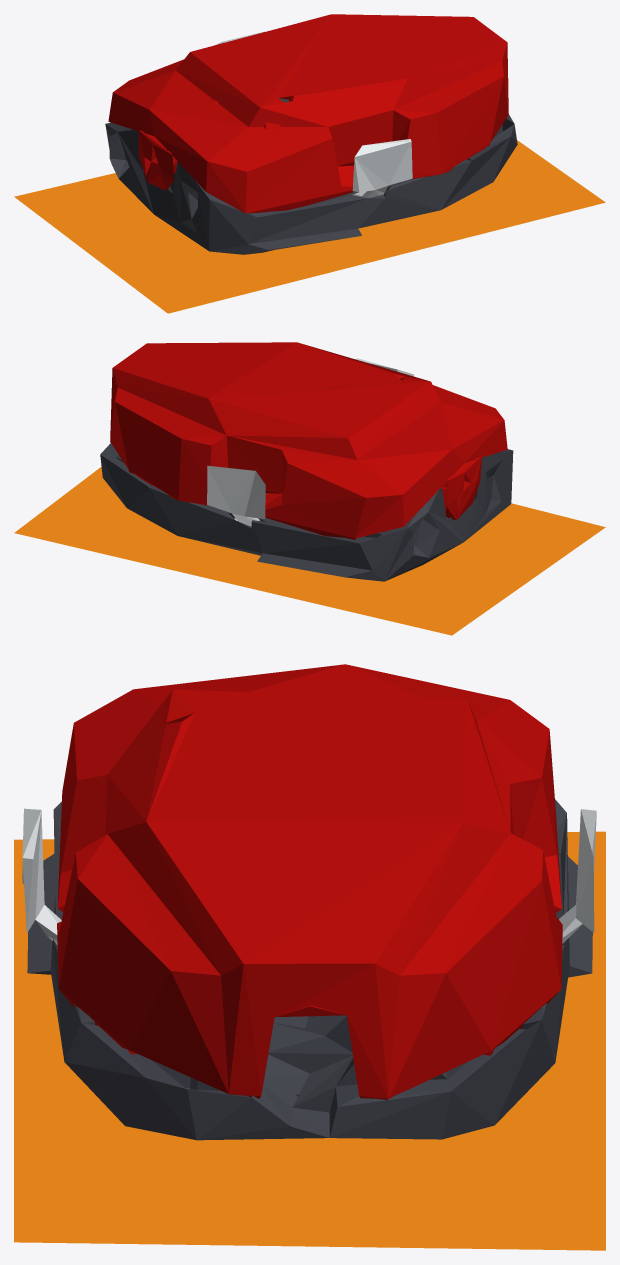
The model's file is main insertion link.OBJ.
3 views of the same model, one above another, from view 1: azimuth 30°, elevation 25°; view 2: azimuth 150°, elevation 25°; view 3: azimuth 270°, elevation 25° (orthographic). The views are drawn at different scales.
Parts seen in each view (by area): view 1: /ambf/env/psm2/main_insertion_link_main_insertion_link_Shape_Ind; view 2: /ambf/env/psm2/main_insertion_link_main_insertion_link_Shape_Ind; view 3: /ambf/env/psm2/main_insertion_link_main_insertion_link_Shape_Ind.
Part boxes in pixels (x1,y1,x2,y2): /ambf/env/psm2/main_insertion_link_main_insertion_link_Shape_Ind: (14, 14, 605, 313); /ambf/env/psm2/main_insertion_link_main_insertion_link_Shape_Ind: (14, 342, 605, 635); /ambf/env/psm2/main_insertion_link_main_insertion_link_Shape_Ind: (14, 664, 605, 1250).
Size of the model in its own units: 0.1227 by 0.039 by 0.0747.
